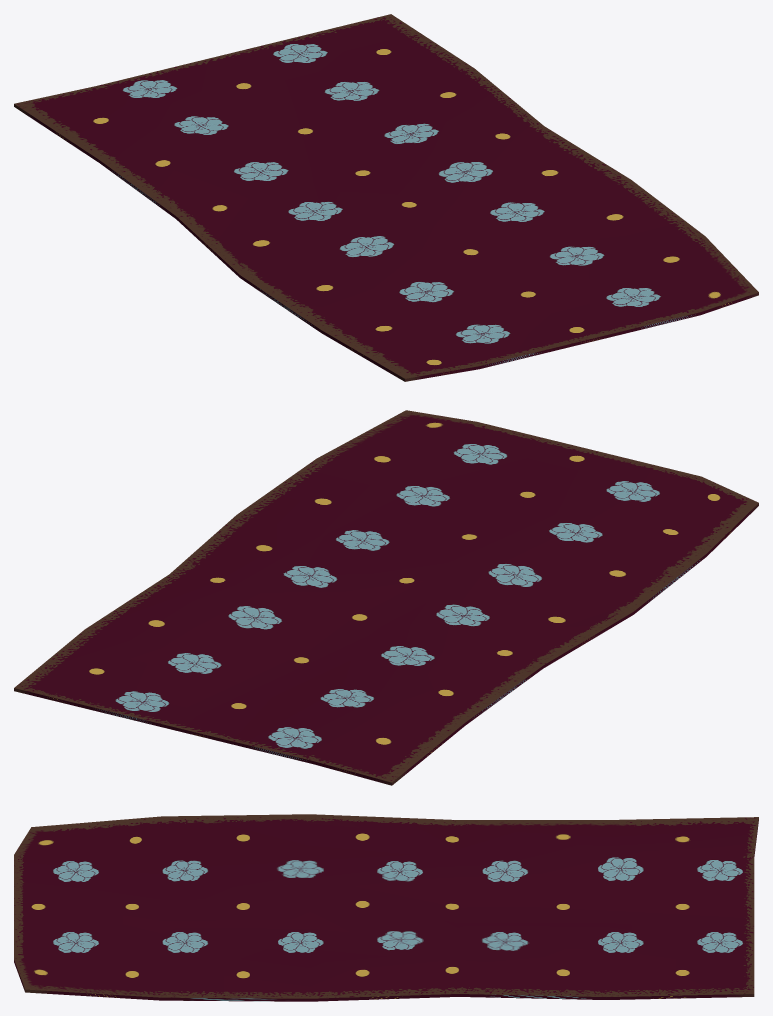
Rendered from CARPET.FBX.
The picture shows the model from 3 angles, top to bottom: view 1: azimuth 30°, elevation 25°; view 2: azimuth 150°, elevation 25°; view 3: azimuth 270°, elevation 25°; orthographic projection. The views are drawn at different scales.
Parts seen in each view (by area): view 1: Box001; view 2: Box001; view 3: Box001.
Part boxes in pixels (box(x1,y1,x2,y2)): Box001: box(14, 14, 758, 381); Box001: box(14, 410, 758, 785); Box001: box(14, 814, 758, 1001).
Size of the model in its own units: 53.08 by 1.48 by 90.57.
